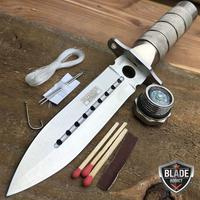knife: (4, 6, 189, 198)
